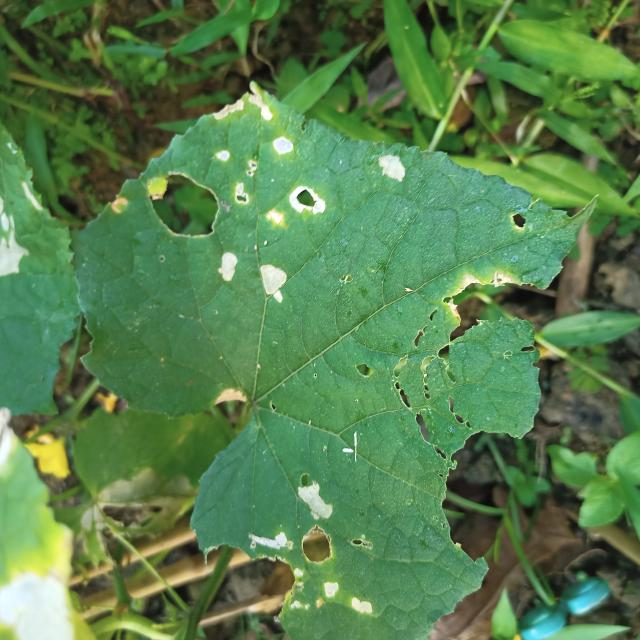disease_cucumber: (203, 82, 411, 230), (247, 477, 390, 614), (204, 247, 297, 307)
